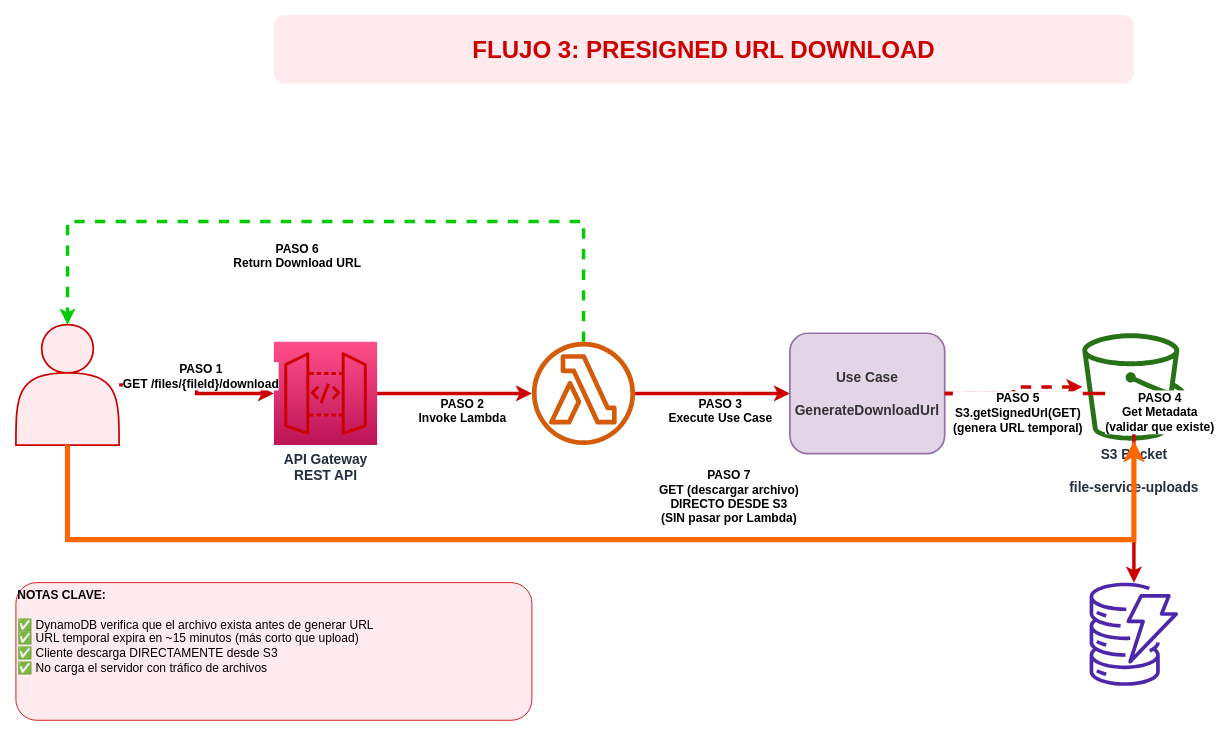
Image size: 1229x756. Some labels were removed from this diagram. The shapes that lost their labels are listed below. From the top down, each one's centre as x and y in pixels, then its label:
At (x=67, y=384): "Cliente (Web/Mobile)".
At (x=583, y=393): "generateDownloadUrl Lambda Handler".
At (x=1133, y=633): "DynamoDB FileMetadata".
